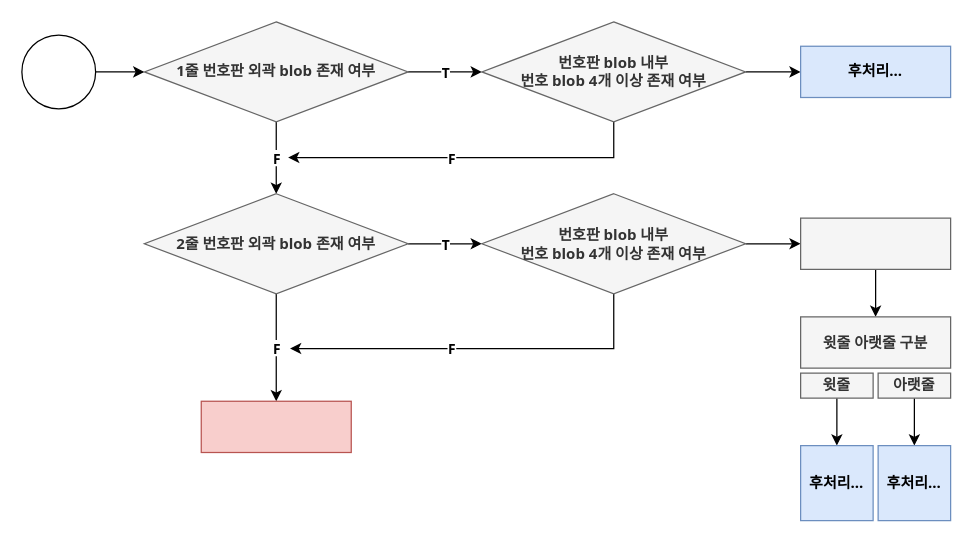
This 973x543 diagram has some shape labels left out. Here are the shapes that lost their labels. From the top down, the box of each, then its label:
(21, 34, 96, 109): start
(799, 217, 951, 269): 마스킹
(200, 400, 351, 452): 인식 실패
